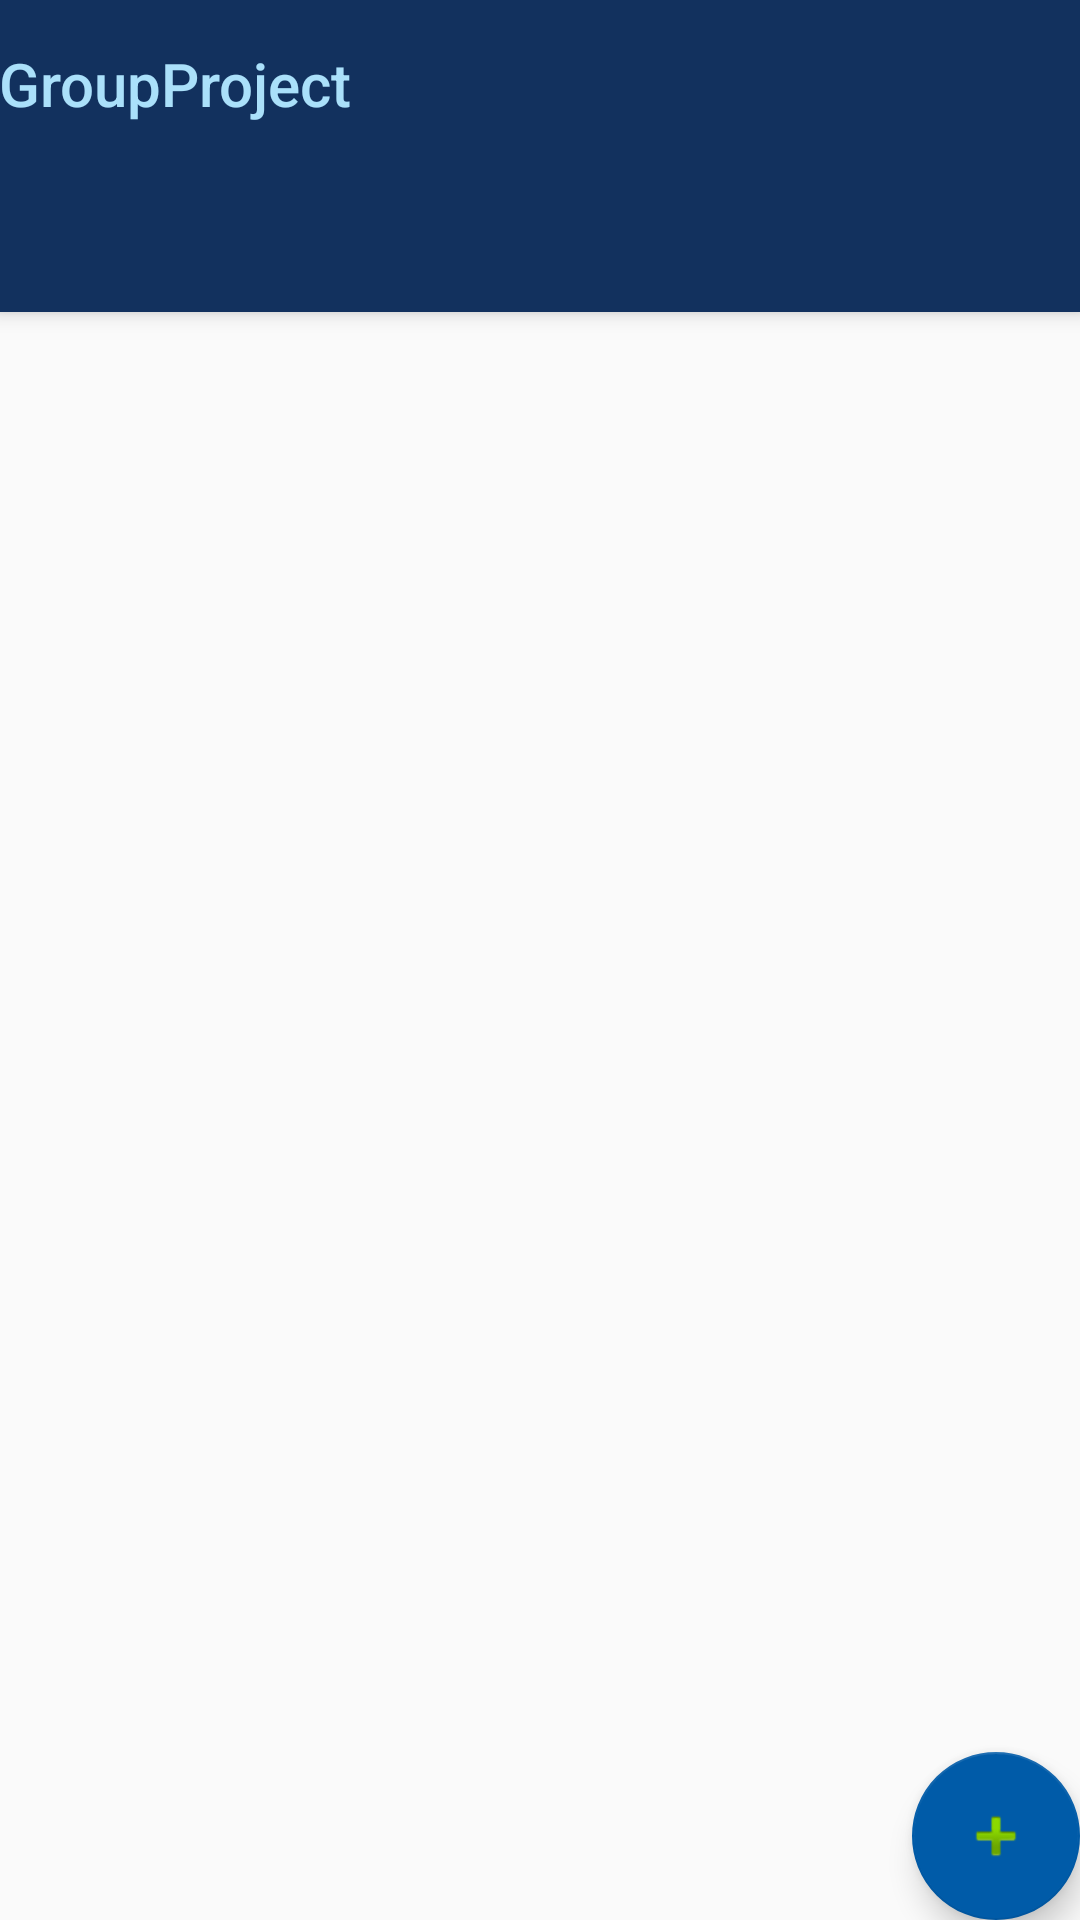

Screen size 1080*1920. Icon name, then its center in pixels as (x,y):
add: (996,1836)
